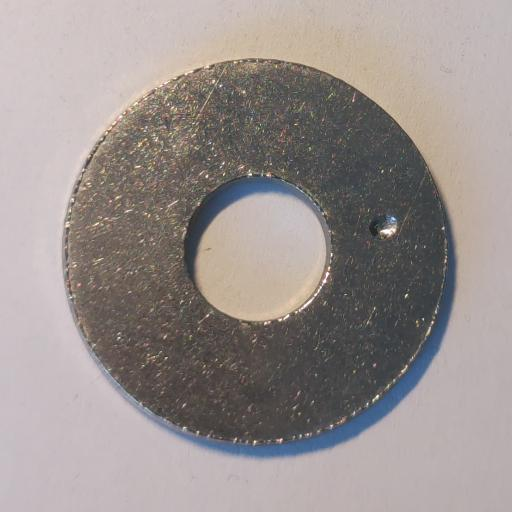circular_cavity: (369, 212, 397, 239)
